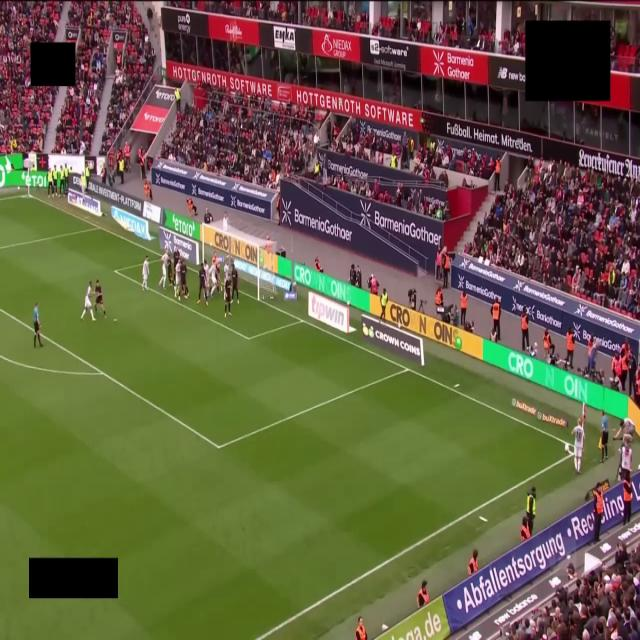ball: (565, 444, 569, 452)
player: (572, 418, 584, 473), (81, 281, 95, 320), (197, 261, 208, 305), (95, 280, 106, 318), (159, 251, 170, 287), (208, 254, 217, 297), (231, 263, 238, 303), (174, 260, 181, 300), (224, 278, 231, 317), (181, 259, 188, 298), (173, 249, 180, 285), (142, 256, 149, 290), (215, 259, 222, 292), (224, 256, 230, 279)
referee: (33, 303, 43, 348)
